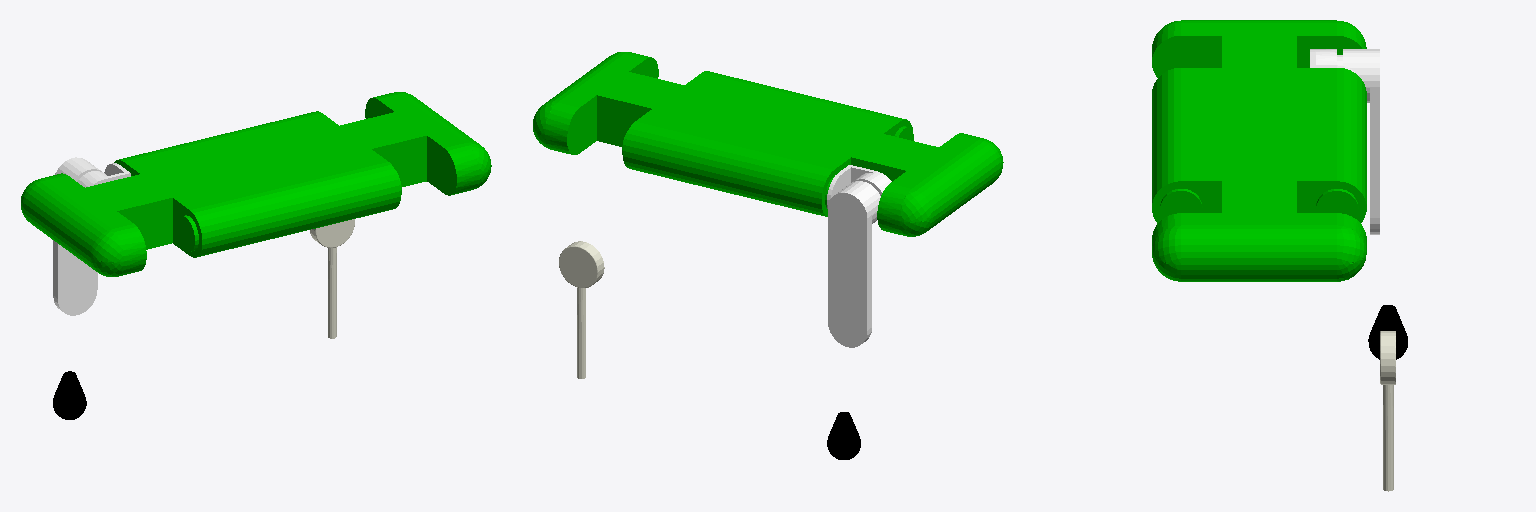
The robot description file, URDF, robot "SimQ":
<?xml version="1.0" encoding="utf-8"?>
<robot name="SimQ">
	<contact>
      	<lateral_friction value="1"/>
  	</contact>
	<material name="black">
		<color rgba="0.0 0.0 0.0 1.0"/>
	</material>
	<material name="blue">
		<color rgba="0.0 0.0 0.8 1.0"/>
	</material>
	<material name="green">
		<color rgba="0.0 0.8 0.0 1.0"/>
	</material>
	<material name="silver">
		<color rgba="0.913725490196 0.913725490196 0.847058823529 1.0"/>
	</material>
	<material name="white">
		<color rgba="1.0 1.0 1.0 1.0"/>
	</material>
	<link name="Base">
		<inertial>
			<mass value="20"/>
			<origin rpy="0 0 0" xyz="0.0 0.0 0.05"/>
			<inertia ixx="3.0044398043106813" ixy="0.0" ixz="1.462176442146301e-15" iyy="19.430338732061138" iyz="3.6554411053657527e-16" izz="21.949030856957084"/>
		</inertial>
		<collision name="Base_collision">
			<origin rpy="0.0 -0.0 0.0" xyz="0.0 0.0 0.0"/>
			<geometry>
				<mesh filename="package://meshes/Base.stl" scale="1.0 1.0 1.0"/>
			</geometry>
		</collision>
		<visual name="Base_visual">
			<origin rpy="0.0 -0.0 0.0" xyz="0.0 0.0 0.0"/>
			<geometry>
				<mesh filename="package://meshes/Base.stl" scale="1.0 1.0 1.0"/>
			</geometry>
			<material name="green"/>
		</visual>
	</link>
	<link name="LFtoe">
		<inertial>
			<mass value="0.1"/>
			<origin rpy="0 0 0" xyz="-1.4738210651898953e-13 0.0 0.002137253370799286"/>
			<inertia ixx="0.0016463844447433076" ixy="0.0" ixz="-1.438365870853886e-13" iyy="0.001646384383383429" iyz="0.0" izz="0.0011198385067415983"/>
		</inertial>
		<collision name="LFtoe_collision">
			<origin rpy="0.0 -0.0 0.0" xyz="0.0 0.0 0.27"/>
			<geometry>
				<mesh filename="package://meshes/LFtoe.stl" scale="1.0 1.0 1.0"/>
			</geometry>
		</collision>
		<visual name="LFtoe_visual">
			<origin rpy="0.0 -0.0 0.0" xyz="0.0 0.0 0.27"/>
			<geometry>
				<mesh filename="package://meshes/LFtoe.stl" scale="1.0 1.0 1.0"/>
			</geometry>
			<material name="black"/>
		</visual>
	</link>
	<link name="LFLower">
		<inertial>
			<mass value="2"/>
			<origin rpy="0 0 0" xyz="3.82055498349132e-12 0.014999999999999986 -0.036355895878957684"/>
			<inertia ixx="0.014224327571654703" ixy="2.2737367544323207e-17" ixz="-2.0938841771567242e-13" iyy="0.015237371730176983" iyz="2.2737367544323207e-17" izz="0.0013158561138827737"/>
		</inertial>
		<collision name="LFLower_collision">
			<origin rpy="0.0 -0.0 0.0" xyz="0.0 0.0 0.0"/>
			<geometry>
				<mesh filename="package://meshes/LFLower.stl" scale="1.0 1.0 1.0"/>
			</geometry>
		</collision>
		<visual name="LFLower_visual">
			<origin rpy="0.0 -0.0 0.0" xyz="0.0 0.0 0.0"/>
			<geometry>
				<mesh filename="package://meshes/LFLower.stl" scale="1.0 1.0 1.0"/>
			</geometry>
			<material name="silver"/>
		</visual>
	</link>
	<link name="LFHip">
		<inertial>
			<mass value="1"/>
			<origin rpy="0 0 0" xyz="0.05775832822443405 -0.01974027114352417 6.938893903907228e-18"/>
			<inertia ixx="0.0045452896095453865" ixy="0.0004948853619873716" ixz="0.0" iyy="0.0075772284506406325" iyz="0.0" izz="0.006514324485669567"/>
		</inertial>
		<collision name="LFHip_collision">
			<origin rpy="0.0 -0.0 0.0" xyz="0.07 -0.04999999999999999 0.0"/>
			<geometry>
				<mesh filename="package://meshes/LFHip.stl" scale="1.0 1.0 1.0"/>
			</geometry>
		</collision>
		<visual name="LFHip_visual">
			<origin rpy="0.0 -0.0 0.0" xyz="0.07 -0.04999999999999999 0.0"/>
			<geometry>
				<mesh filename="package://meshes/LFHip.stl" scale="1.0 1.0 1.0"/>
			</geometry>
			<material name="white"/>
		</visual>
	</link>
	<link name="LFUpper">
		<inertial>
			<mass value="2"/>
			<origin rpy="0 0 0" xyz="3.411633352823351e-06 0.04738631632794854 -0.08634731324390973"/>
			<inertia ixx="0.09715494845691629" ixy="-3.476265435892856e-07" ixz="1.3052349241434057e-06" iyy="0.10014218315634625" iyz="0.009316314201057286" izz="0.00946709178016481"/>
		</inertial>
		<collision name="LFUpper_collision">
			<origin rpy="0.0 -0.0 0.0" xyz="0.0 0.04999999999999999 -0.3"/>
			<geometry>
				<mesh filename="package://meshes/LFUpper.stl" scale="1.0 1.0 1.0"/>
			</geometry>
		</collision>
		<visual name="LFUpper_visual">
			<origin rpy="0.0 -0.0 0.0" xyz="0.0 0.04999999999999999 -0.3"/>
			<geometry>
				<mesh filename="package://meshes/LFUpper.stl" scale="1.0 1.0 1.0"/>
			</geometry>
			<material name="white"/>
		</visual>
	</link>
	<link name="LRHip">
		<inertial>
			<mass value="1"/>
			<origin rpy="0 0 0" xyz="-0.05775832822443411 -0.01974027114352417 -2.0816681711721685e-17"/>
			<inertia ixx="0.004545289609545409" ixy="-0.0004948853619873716" ixz="0.0" iyy="0.0075772284506406325" iyz="0.0" izz="0.006514324485669567"/>
		</inertial>
		<collision name="LRHip_collision">
			<origin rpy="3.141592653589793 -0.0 3.141592653589793" xyz="-0.07000000000000006 -0.04999999999999999 -6.938893903907228e-18"/>
			<geometry>
				<mesh filename="package://meshes/LRHip.stl" scale="1.0 1.0 1.0"/>
			</geometry>
		</collision>
		<visual name="LRHip_visual">
			<origin rpy="3.141592653589793 -0.0 3.141592653589793" xyz="-0.07000000000000006 -0.04999999999999999 -6.938893903907228e-18"/>
			<geometry>
				<mesh filename="package://meshes/LRHip.stl" scale="1.0 1.0 1.0"/>
			</geometry>
			<material name="white"/>
		</visual>
	</link>
	<link name="RFHip">
		<inertial>
			<mass value="1"/>
			<origin rpy="0 0 0" xyz="0.05775832822443405 0.01974027114352417 -2.0816681711721685e-17"/>
			<inertia ixx="0.0045452896095453865" ixy="-0.0004948853619873716" ixz="0.0" iyy="0.0075772284506406325" iyz="0.0" izz="0.006514324485669567"/>
		</inertial>
		<collision name="RFHip_collision">
			<origin rpy="3.141592653589793 -0.0 0.0" xyz="0.07 0.05000000000000003 -1.3877787807814457e-17"/>
			<geometry>
				<mesh filename="package://meshes/RFHip.stl" scale="1.0 1.0 1.0"/>
			</geometry>
		</collision>
		<visual name="RFHip_visual">
			<origin rpy="3.141592653589793 -0.0 0.0" xyz="0.07 0.05000000000000003 -1.3877787807814457e-17"/>
			<geometry>
				<mesh filename="package://meshes/RFHip.stl" scale="1.0 1.0 1.0"/>
			</geometry>
			<material name="white"/>
		</visual>
	</link>
	<link name="RRHip">
		<inertial>
			<mass value="1"/>
			<origin rpy="0 0 0" xyz="-0.05775832822443411 0.01974027114352417 1.3877787807814457e-17"/>
			<inertia ixx="0.00454528960954542" ixy="0.0004948853619873716" ixz="0.0" iyy="0.00757722845064045" iyz="0.0" izz="0.006514324485669476"/>
		</inertial>
		<collision name="RRHip_collision">
			<origin rpy="4.163336342348122e-17 -1.1305222777700559e-40 3.141592653589793" xyz="-0.07000000000000006 0.04999999999999999 6.938893903907228e-18"/>
			<geometry>
				<mesh filename="package://meshes/RRHip.stl" scale="1.0 1.0 1.0"/>
			</geometry>
		</collision>
		<visual name="RRHip_visual">
			<origin rpy="4.163336342348122e-17 -1.1305222777700559e-40 3.141592653589793" xyz="-0.07000000000000006 0.04999999999999999 6.938893903907228e-18"/>
			<geometry>
				<mesh filename="package://meshes/RRHip.stl" scale="1.0 1.0 1.0"/>
			</geometry>
			<material name="white"/>
		</visual>
	</link>
	<link name="LRUpper">
		<inertial>
			<mass value="2"/>
			<origin rpy="0 0 0" xyz="3.4116333529343734e-06 0.04738631632794854 -0.08634731324390973"/>
			<inertia ixx="0.09715494845691619" ixy="-3.4762654368023506e-07" ixz="1.3052349241888806e-06" iyy="0.10014218315634625" iyz="0.009316314201057298" izz="0.00946709178016481"/>
		</inertial>
		<collision name="LRUpper_collision">
			<origin rpy="1.2246467991473525e-16 -1.2246467991473532e-16 -1.4997597826618568e-32" xyz="1.6653345369377348e-16 0.050000000000000044 -0.3"/>
			<geometry>
				<mesh filename="package://meshes/LRUpper.stl" scale="1.0 1.0 1.0"/>
			</geometry>
		</collision>
		<visual name="LRUpper_visual">
			<origin rpy="1.2246467991473525e-16 -1.2246467991473532e-16 -1.4997597826618568e-32" xyz="1.6653345369377348e-16 0.050000000000000044 -0.3"/>
			<geometry>
				<mesh filename="package://meshes/LRUpper.stl" scale="1.0 1.0 1.0"/>
			</geometry>
			<material name="white"/>
		</visual>
	</link>
	<link name="RFUpper">
		<inertial>
			<mass value="2"/>
			<origin rpy="0 0 0" xyz="-3.4116333529343734e-06 -0.04738631632794854 -0.08634731324390973"/>
			<inertia ixx="0.09715494845691641" ixy="-3.4762654368023506e-07" ixz="-1.3052349241888806e-06" iyy="0.10014218315634643" iyz="-0.009316314201057298" izz="0.00946709178016481"/>
		</inertial>
		<collision name="RFUpper_collision">
			<origin rpy="1.2246467991474772e-16 -1.2246467991473532e-16 3.141592653589793" xyz="-1.6653345369377348e-16 -0.050000000000000044 -0.3"/>
			<geometry>
				<mesh filename="package://meshes/RFUpper.stl" scale="1.0 1.0 1.0"/>
			</geometry>
		</collision>
		<visual name="RFUpper_visual">
			<origin rpy="1.2246467991474772e-16 -1.2246467991473532e-16 3.141592653589793" xyz="-1.6653345369377348e-16 -0.050000000000000044 -0.3"/>
			<geometry>
				<mesh filename="package://meshes/RFUpper.stl" scale="1.0 1.0 1.0"/>
			</geometry>
			<material name="white"/>
		</visual>
	</link>
	<link name="RRUpper">
		<inertial>
			<mass value="2"/>
			<origin rpy="0 0 0" xyz="-3.4116333528788623e-06 -0.047386316327948624 -0.08634731324390973"/>
			<inertia ixx="0.09715494845691769" ixy="-3.4762654368023506e-07" ixz="-1.3052349241888806e-06" iyy="0.10014218315634771" iyz="-0.009316314201057321" izz="0.00946709178016481"/>
		</inertial>
		<collision name="RRUpper_collision">
			<origin rpy="4.163336342348132e-17 5.7777897199859254e-33 3.141592653589793" xyz="0.0 -0.0500000000000001 -0.3"/>
			<geometry>
				<mesh filename="package://meshes/RRUpper.stl" scale="1.0 1.0 1.0"/>
			</geometry>
		</collision>
		<visual name="RRUpper_visual">
			<origin rpy="4.163336342348132e-17 5.7777897199859254e-33 3.141592653589793" xyz="0.0 -0.0500000000000001 -0.3"/>
			<geometry>
				<mesh filename="package://meshes/RRUpper.stl" scale="1.0 1.0 1.0"/>
			</geometry>
			<material name="white"/>
		</visual>
	</link>
	<link name="LRLower">
		<inertial>
			<mass value="2"/>
			<origin rpy="0 0 0" xyz="3.82055498349132e-12 0.015000000000000013 -0.036355895878957684"/>
			<inertia ixx="0.014224327571654703" ixy="2.2737367544323207e-17" ixz="-2.0938841771567242e-13" iyy="0.015237371730176892" iyz="2.2737367544323207e-17" izz="0.0013158561138827737"/>
		</inertial>
		<collision name="LRLower_collision">
			<origin rpy="1.2246467991473525e-16 -1.2246467991473532e-16 -1.4997597826618568e-32" xyz="0.0 0.0 0.0"/>
			<geometry>
				<mesh filename="package://meshes/LRLower.stl" scale="1.0 1.0 1.0"/>
			</geometry>
		</collision>
		<visual name="LRLower_visual">
			<origin rpy="1.2246467991473525e-16 -1.2246467991473532e-16 -1.4997597826618568e-32" xyz="0.0 0.0 0.0"/>
			<geometry>
				<mesh filename="package://meshes/LRLower.stl" scale="1.0 1.0 1.0"/>
			</geometry>
			<material name="silver"/>
		</visual>
	</link>
	<link name="RFLower">
		<inertial>
			<mass value="2"/>
			<origin rpy="0 0 0" xyz="3.820610494642551e-12 -0.015000000000000013 -0.036355895878957684"/>
			<inertia ixx="0.014224327571654658" ixy="0.0" ixz="-2.0938841771567242e-13" iyy="0.015237371730176892" iyz="0.0" izz="0.0013158561138827737"/>
		</inertial>
		<collision name="RFLower_collision">
			<origin rpy="-1.224646799147477e-16 2.449293598294706e-16 -2.7733391199176196e-32" xyz="0.0 -0.03 0.0"/>
			<geometry>
				<mesh filename="package://meshes/RFLower.stl" scale="1.0 1.0 1.0"/>
			</geometry>
		</collision>
		<visual name="RFLower_visual">
			<origin rpy="-1.224646799147477e-16 2.449293598294706e-16 -2.7733391199176196e-32" xyz="0.0 -0.03 0.0"/>
			<geometry>
				<mesh filename="package://meshes/RFLower.stl" scale="1.0 1.0 1.0"/>
			</geometry>
			<material name="silver"/>
		</visual>
	</link>
	<link name="RRLower">
		<inertial>
			<mass value="2"/>
			<origin rpy="0 0 0" xyz="3.820610494642551e-12 -0.014999999999999986 -0.03635589587895771"/>
			<inertia ixx="0.014224327571654703" ixy="0.0" ixz="-2.0938841771567242e-13" iyy="0.015237371730176892" iyz="0.0" izz="0.001315856113882819"/>
		</inertial>
		<collision name="RRLower_collision">
			<origin rpy="-4.163336342348123e-17 1.2246467991473532e-16 1.0682513713989469e-64" xyz="0.0 -0.03 0.0"/>
			<geometry>
				<mesh filename="package://meshes/RRLower.stl" scale="1.0 1.0 1.0"/>
			</geometry>
		</collision>
		<visual name="RRLower_visual">
			<origin rpy="-4.163336342348123e-17 1.2246467991473532e-16 1.0682513713989469e-64" xyz="0.0 -0.03 0.0"/>
			<geometry>
				<mesh filename="package://meshes/RRLower.stl" scale="1.0 1.0 1.0"/>
			</geometry>
			<material name="silver"/>
		</visual>
	</link>
	<link name="LRtoe">
		<inertial>
			<mass value="0.1"/>
			<origin rpy="0 0 0" xyz="-1.4738210651898953e-13 0.0 0.002137253370799286"/>
			<inertia ixx="0.0016463844447433076" ixy="0.0" ixz="-1.438365870853886e-13" iyy="0.001646384383383338" iyz="0.0" izz="0.0011198385067415983"/>
		</inertial>
		<collision name="LRtoe_collision">
			<origin rpy="1.2246467991473525e-16 -0.0 0.0" xyz="0.0 -2.7755575615628914e-17 0.27"/>
			<geometry>
				<mesh filename="package://meshes/LRtoe.stl" scale="1.0 1.0 1.0"/>
			</geometry>
		</collision>
		<visual name="LRtoe_visual">
			<origin rpy="1.2246467991473525e-16 -0.0 0.0" xyz="0.0 -2.7755575615628914e-17 0.27"/>
			<geometry>
				<mesh filename="package://meshes/LRtoe.stl" scale="1.0 1.0 1.0"/>
			</geometry>
			<material name="black"/>
		</visual>
	</link>
	<link name="RFtoe">
		<inertial>
			<mass value="0.1"/>
			<origin rpy="0 0 0" xyz="-1.4738210651898953e-13 0.0 0.002137253370799286"/>
			<inertia ixx="0.0016463844447433076" ixy="0.0" ixz="-1.438365870853886e-13" iyy="0.001646384383383429" iyz="0.0" izz="0.0011198385067415983"/>
		</inertial>
		<collision name="RFtoe_collision">
			<origin rpy="-1.224646799147477e-16 -0.0 2.2618044540639884e-33" xyz="0.0 2.7755575615628914e-17 0.27"/>
			<geometry>
				<mesh filename="package://meshes/RFtoe.stl" scale="1.0 1.0 1.0"/>
			</geometry>
		</collision>
		<visual name="RFtoe_visual">
			<origin rpy="-1.224646799147477e-16 -0.0 2.2618044540639884e-33" xyz="0.0 2.7755575615628914e-17 0.27"/>
			<geometry>
				<mesh filename="package://meshes/RFtoe.stl" scale="1.0 1.0 1.0"/>
			</geometry>
			<material name="black"/>
		</visual>
	</link>
	<link name="RRtoe">
		<inertial>
			<mass value="0.1"/>
			<origin rpy="0 0 0" xyz="-1.4732659536775827e-13 -5.551115123125783e-17 0.002137253370799286"/>
			<inertia ixx="0.0016463844447433076" ixy="0.0" ixz="-1.438365870853886e-13" iyy="0.001646384383383338" iyz="0.0" izz="0.0011198385067415983"/>
		</inertial>
		<collision name="RRtoe_collision">
			<origin rpy="-4.163336342348123e-17 -0.0 5.098616525430478e-33" xyz="0.0 -2.7755575615628914e-17 0.27"/>
			<geometry>
				<mesh filename="package://meshes/RRtoe.stl" scale="1.0 1.0 1.0"/>
			</geometry>
		</collision>
		<visual name="RRtoe_visual">
			<origin rpy="-4.163336342348123e-17 -0.0 5.098616525430478e-33" xyz="0.0 -2.7755575615628914e-17 0.27"/>
			<geometry>
				<mesh filename="package://meshes/RRtoe.stl" scale="1.0 1.0 1.0"/>
			</geometry>
			<material name="black"/>
		</visual>
	</link>
	<link name="Imu">
		<inertial>
			<mass value="0.1"/>
			<origin rpy="0 0 0" xyz="0.0 0.0 -0.005"/>
			<inertia ixx="4.252083333333332e-05" ixy="2.2204460492503132e-20" ixz="0.0" iyy="4.252083333333332e-05" iyz="0.0" izz="8.17708333333333e-05"/>
		</inertial>
		<collision name="Imu_collision">
			<origin rpy="0.0 -0.0 0.0" xyz="-0.025 0.025 -0.009999999999999998"/>
			<geometry>
				<mesh filename="package://meshes/Imu.stl" scale="1.0 1.0 1.0"/>
			</geometry>
		</collision>
		<visual name="Imu_visual">
			<origin rpy="0.0 -0.0 0.0" xyz="-0.025 0.025 -0.009999999999999998"/>
			<geometry>
				<mesh filename="package://meshes/Imu.stl" scale="1.0 1.0 1.0"/>
			</geometry>
			<material name="blue"/>
		</visual>
	</link>
	<joint name="LFtoe_joint" type="fixed">
		<parent link="LFLower"/>
		<child link="LFtoe"/>
		<origin rpy="0 0 0" xyz="0.0 0.014999999999999986 -0.27"/>
	</joint>
	<joint name="LRtoe_joint" type="fixed">
		<parent link="LRLower"/>
		<child link="LRtoe"/>
		<origin rpy="0 0 0" xyz="-1.6653345369377348e-16 0.015000000000000041 -0.27"/>
	</joint>
	<joint name="RFtoe_joint" type="fixed">
		<parent link="RFLower"/>
		<child link="RFtoe"/>
		<origin rpy="0 0 0" xyz="1.1102230246251565e-16 -0.015000000000000041 -0.27"/>
	</joint>
	<joint name="RRtoe_joint" type="fixed">
		<parent link="RRLower"/>
		<child link="RRtoe"/>
		<origin rpy="0 0 0" xyz="5.551115123125783e-17 -0.01499999999999993 -0.27"/>
	</joint>
	<joint name="LFUpper_joint" type="revolute">
		<parent link="LFHip"/>
		<child link="LFUpper"/>
		<origin rpy="0 0 0" xyz="0.07 0.010000000000000009 0.0"/>
		<axis xyz="0.0 1.0 0.0"/>
		<limit effort="0" lower="-3.14" upper="3.14" velocity="0"/>
	</joint>
	<joint name="LFHip_joint" type="revolute">
		<parent link="Base"/>
		<child link="LFHip"/>
		<origin rpy="0 0 0" xyz="0.26 0.145 0.05"/>
		<axis xyz="1.0 0.0 0.0"/>
		<limit effort="0" lower="-3.14" upper="3.14" velocity="0"/>
	</joint>
	<joint name="LFLower_joint" type="revolute">
		<parent link="LFUpper"/>
		<child link="LFLower"/>
		<origin rpy="0 0 0" xyz="0.0 0.07 -0.27"/>
		<axis xyz="0.0 1.0 0.0"/>
		<limit effort="0" lower="-3.14" upper="3.14" velocity="0"/>
	</joint>
	<joint name="LRHip_joint" type="revolute">
		<parent link="Base"/>
		<child link="LRHip"/>
		<origin rpy="0 0 0" xyz="-0.25999999999999995 0.145 0.05000000000000001"/>
		<axis xyz="-1.0 0.0 0.0"/>
		<limit effort="0" lower="-3.14" upper="3.14" velocity="0"/>
	</joint>
	<joint name="LRUpper_joint" type="revolute">
		<parent link="LRHip"/>
		<child link="LRUpper"/>
		<origin rpy="0 0 0" xyz="-0.07000000000000012 0.010000000000000009 -6.938893903907228e-18"/>
		<axis xyz="0.0 1.0 1.2246467991473522e-16"/>
		<limit effort="0" lower="-3.14" upper="3.14" velocity="0"/>
	</joint>
	<joint name="RFHip_joint" type="revolute">
		<parent link="Base"/>
		<child link="RFHip"/>
		<origin rpy="0 0 0" xyz="0.26 -0.145 0.050000000000000225"/>
		<axis xyz="1.0 0.0 0.0"/>
		<limit effort="0" lower="-3.14" upper="3.14" velocity="0"/>
	</joint>
	<joint name="RRHip_joint" type="revolute">
		<parent link="Base"/>
		<child link="RRHip"/>
		<origin rpy="0 0 0" xyz="-0.26 -0.145 0.050000000000000065"/>
		<axis xyz="-1.0 0.0 0.0"/>
		<limit effort="0" lower="-3.14" upper="3.14" velocity="0"/>
	</joint>
	<joint name="RFUpper_joint" type="revolute">
		<parent link="RFHip"/>
		<child link="RFUpper"/>
		<origin rpy="0 0 0" xyz="0.07000000000000006 -0.010000000000000037 6.245004513516506e-17"/>
		<axis xyz="0.0 -1.0000000000000009 1.2246467991474777e-16"/>
		<limit effort="0" lower="-3.14" upper="3.14" velocity="0"/>
	</joint>
	<joint name="RRUpper_joint" type="revolute">
		<parent link="RRHip"/>
		<child link="RRUpper"/>
		<origin rpy="0 0 0" xyz="-0.07000000000000006 -0.009999999999999981 6.938893903907228e-18"/>
		<axis xyz="-3.0847975724758214e-27 -0.9999999999999996 4.1633363423481236e-17"/>
		<limit effort="0" lower="-3.14" upper="3.14" velocity="0"/>
	</joint>
	<joint name="LRLower_joint" type="revolute">
		<parent link="LRUpper"/>
		<child link="LRLower"/>
		<origin rpy="0 0 0" xyz="1.6653345369377348e-16 0.07000000000000003 -0.27"/>
		<axis xyz="0.0 1.0 1.2246467991473525e-16"/>
		<limit effort="0" lower="-3.14" upper="3.14" velocity="0"/>
	</joint>
	<joint name="RFLower_joint" type="revolute">
		<parent link="RFUpper"/>
		<child link="RFLower"/>
		<origin rpy="0 0 0" xyz="-1.6653345369377348e-16 -0.07000000000000015 -0.27"/>
		<axis xyz="-2.775557561562891e-17 -1.0000000000000002 1.2246467991474772e-16"/>
		<limit effort="0" lower="-3.14" upper="3.14" velocity="0"/>
	</joint>
	<joint name="RRLower_joint" type="revolute">
		<parent link="RRUpper"/>
		<child link="RRLower"/>
		<origin rpy="0 0 0" xyz="0.0 -0.07000000000000015 -0.27"/>
		<axis xyz="-1.3877787807814452e-16 -1.0000000000000016 4.163336342348132e-17"/>
		<limit effort="0" lower="-3.14" upper="3.14" velocity="0"/>
	</joint>
	<joint name="Imu_joint" type="fixed">
		<parent link="Base"/>
		<child link="Imu"/>
		<origin rpy="0 0 0" xyz="0.0 0.0 -0.005"/>
	</joint>
</robot>

--- Facts derived from the render (not from the file) ---
Views: 3 orthographic renders of the robot side by side, from view 1: azimuth 30°, elevation 25°; view 2: azimuth 150°, elevation 25°; view 3: azimuth 270°, elevation 25°.
Model SimQ with 18 links and 17 joints (12 revolute, 5 fixed), rooted at Base, posed all joints at 0.
Visible links, largest first — view 1: Base, LRUpper, LFLower, LRtoe, LRHip; view 2: Base, LRUpper, LFLower, LRtoe, LRHip; view 3: Base, LRUpper, LFLower, LRtoe, LRHip.
Link boxes in pixels (left/top/right/bottom): Base: left=21, top=92, right=491, bottom=276; LRUpper: left=53, top=157, right=101, bottom=315; LFLower: left=310, top=219, right=354, bottom=338; LRtoe: left=53, top=371, right=86, bottom=419; LRHip: left=77, top=163, right=130, bottom=187; Base: left=533, top=52, right=1003, bottom=236; LRUpper: left=828, top=181, right=880, bottom=347; LFLower: left=559, top=241, right=604, bottom=378; LRtoe: left=827, top=412, right=860, bottom=459; LRHip: left=827, top=165, right=891, bottom=208; Base: left=1152, top=20, right=1366, bottom=281; LRUpper: left=1343, top=49, right=1379, bottom=234; LFLower: left=1380, top=331, right=1395, bottom=491; LRtoe: left=1368, top=305, right=1407, bottom=359; LRHip: left=1310, top=49, right=1359, bottom=76.
Size in the robot's own frame: 1 by 0.477 by 0.6375 metres.
6 mesh visuals loaded from 18 distinct referenced files (6 binary STL); not drawn: 12 (reference not matched to a file when rendering).